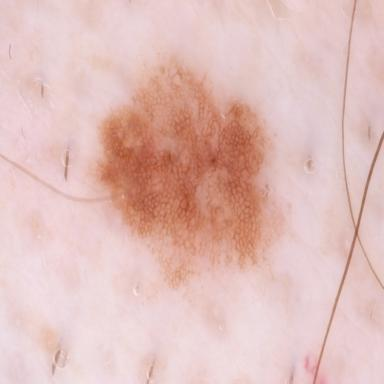nevus: (96, 63, 283, 289)
